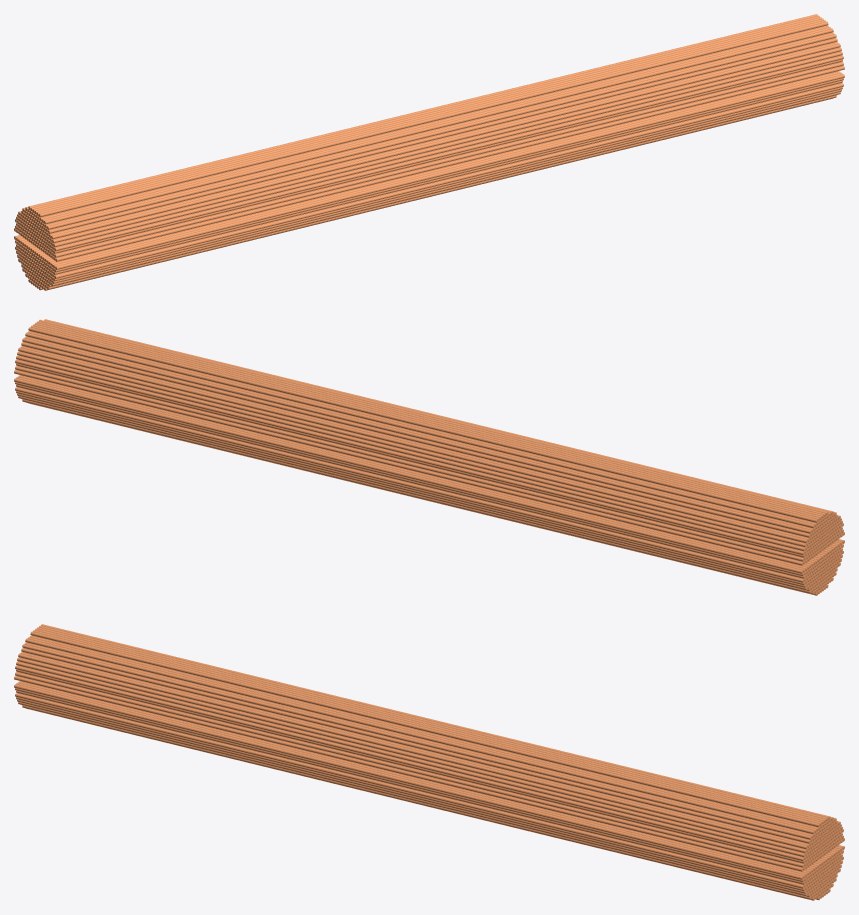
The model's file is 10_Copper_Tubes_354.glb.
3 views of the same model, one above another, from view 1: azimuth 30°, elevation 25°; view 2: azimuth 150°, elevation 25°; view 3: azimuth 330°, elevation 25° (orthographic).
Parts seen in each view (by area): view 1: geometry_0; view 2: geometry_0; view 3: geometry_0.
Part boxes in pixels (<box>): geometry_0: <box>14,14,844,290</box>; geometry_0: <box>14,319,844,595</box>; geometry_0: <box>14,624,844,900</box>.
Size of the model in its own units: 2 by 0.1846 by 0.189.
